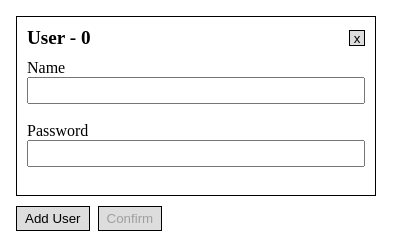
Test case: 1. input fail test
This screenshot has width=393, height=248.
Type "te" into the field with test id "Name" at (196, 90), box [27,77,365,104]
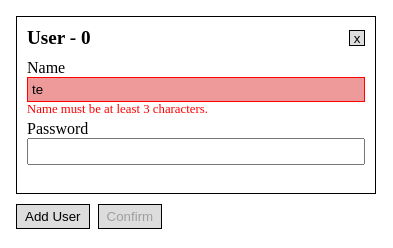
Result: the text "Name must be at least 3 characters." is shown at [27,102,208,116]
Type "123" into the field with test id "Password" at (196, 152), box [27,138,365,165]
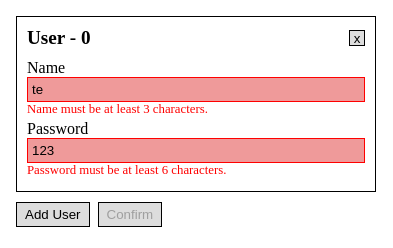
Expected: the button "Confirm" is disabled, [98,202,162,227]
Result: the text "Password must be at least 6 characters." is shown at [27,163,226,177]
